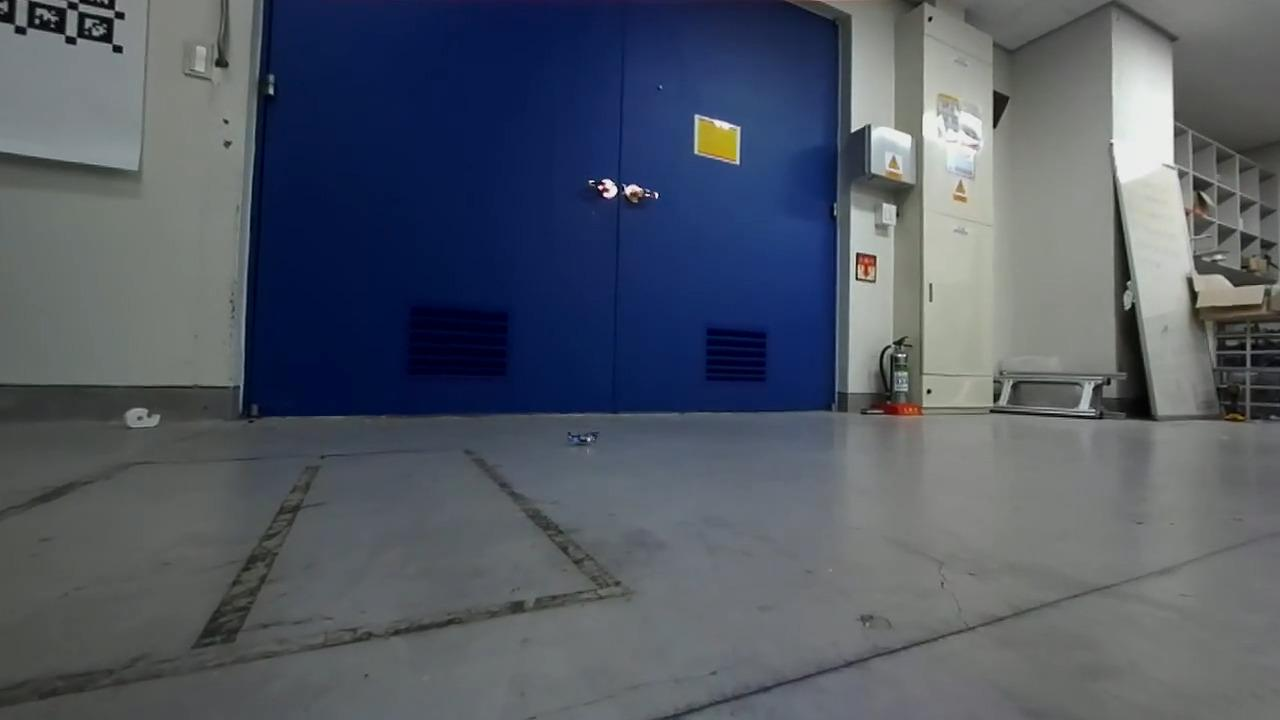crazyflie: (560, 423, 611, 453)
